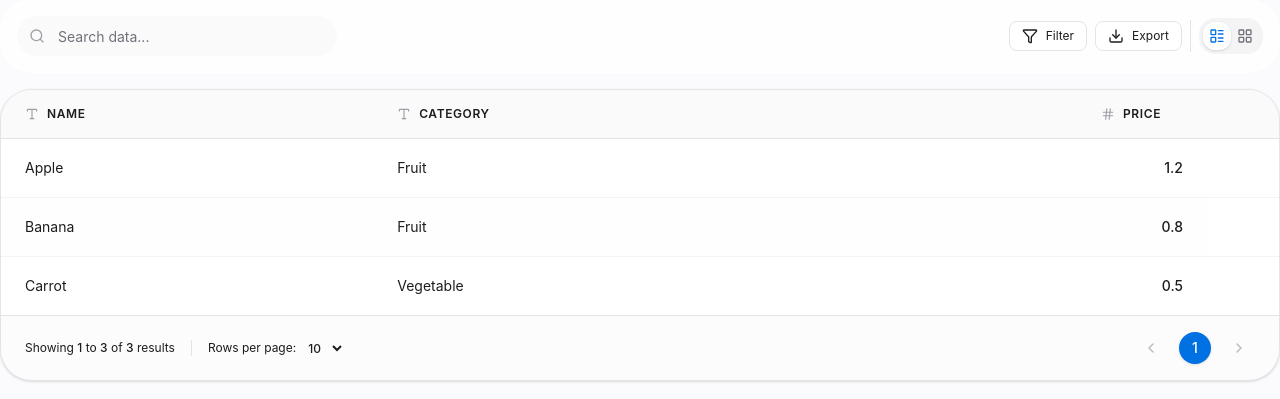
Scenario: DataTable › filters data based on search input
The image size is (1280, 399).
Type "Apple" into the field with placeholder "Search data..." at (177, 36), box [17,16,337,56]
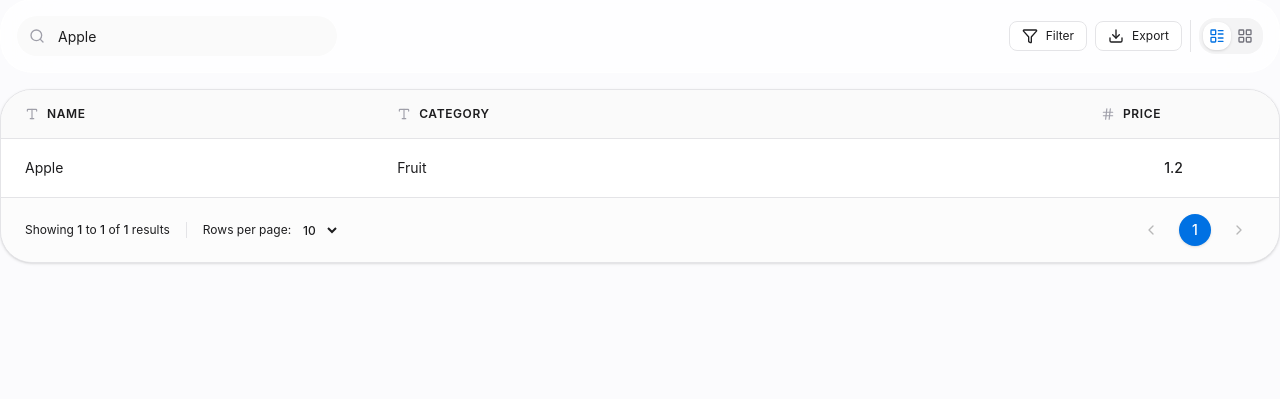
Expected: the text "Apple" is shown, [1,138,373,197]
Expected: the text "Banana" is gone
